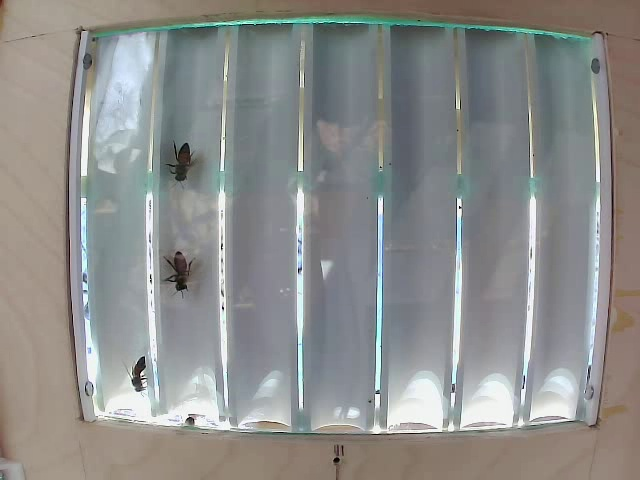bee: (157, 228, 201, 310), (157, 136, 200, 197), (122, 346, 157, 394)
